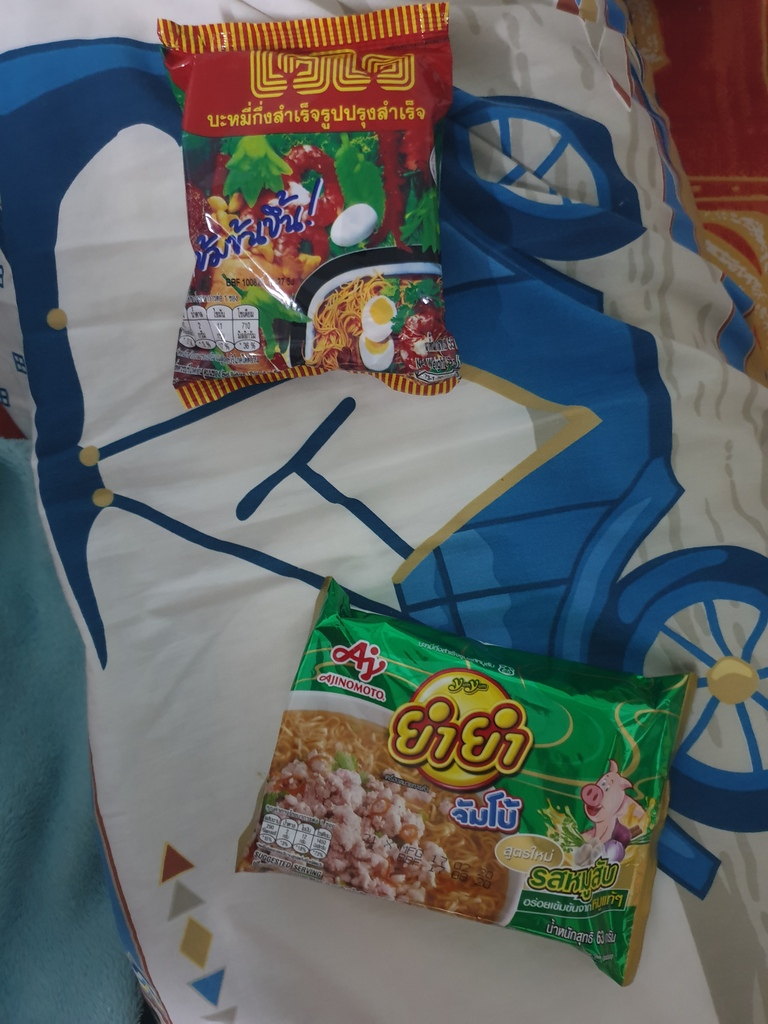waiwai: (156, 16, 477, 404)
yumyum: (277, 580, 689, 1005)
